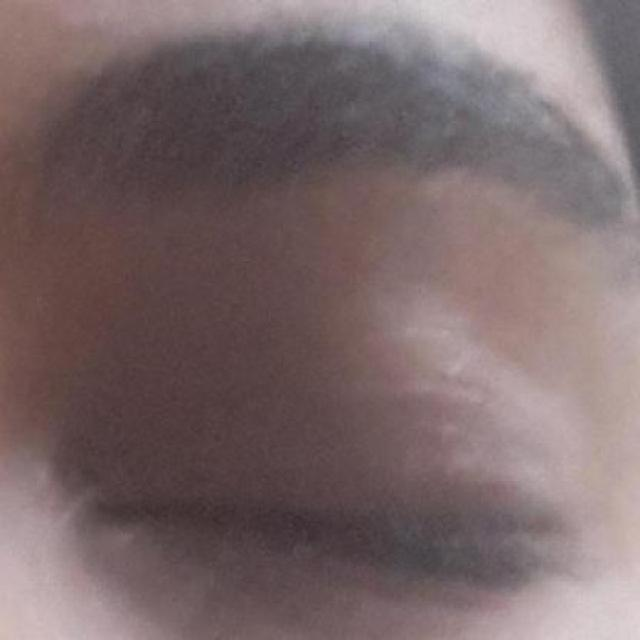drowsy: (100, 410, 582, 638)
